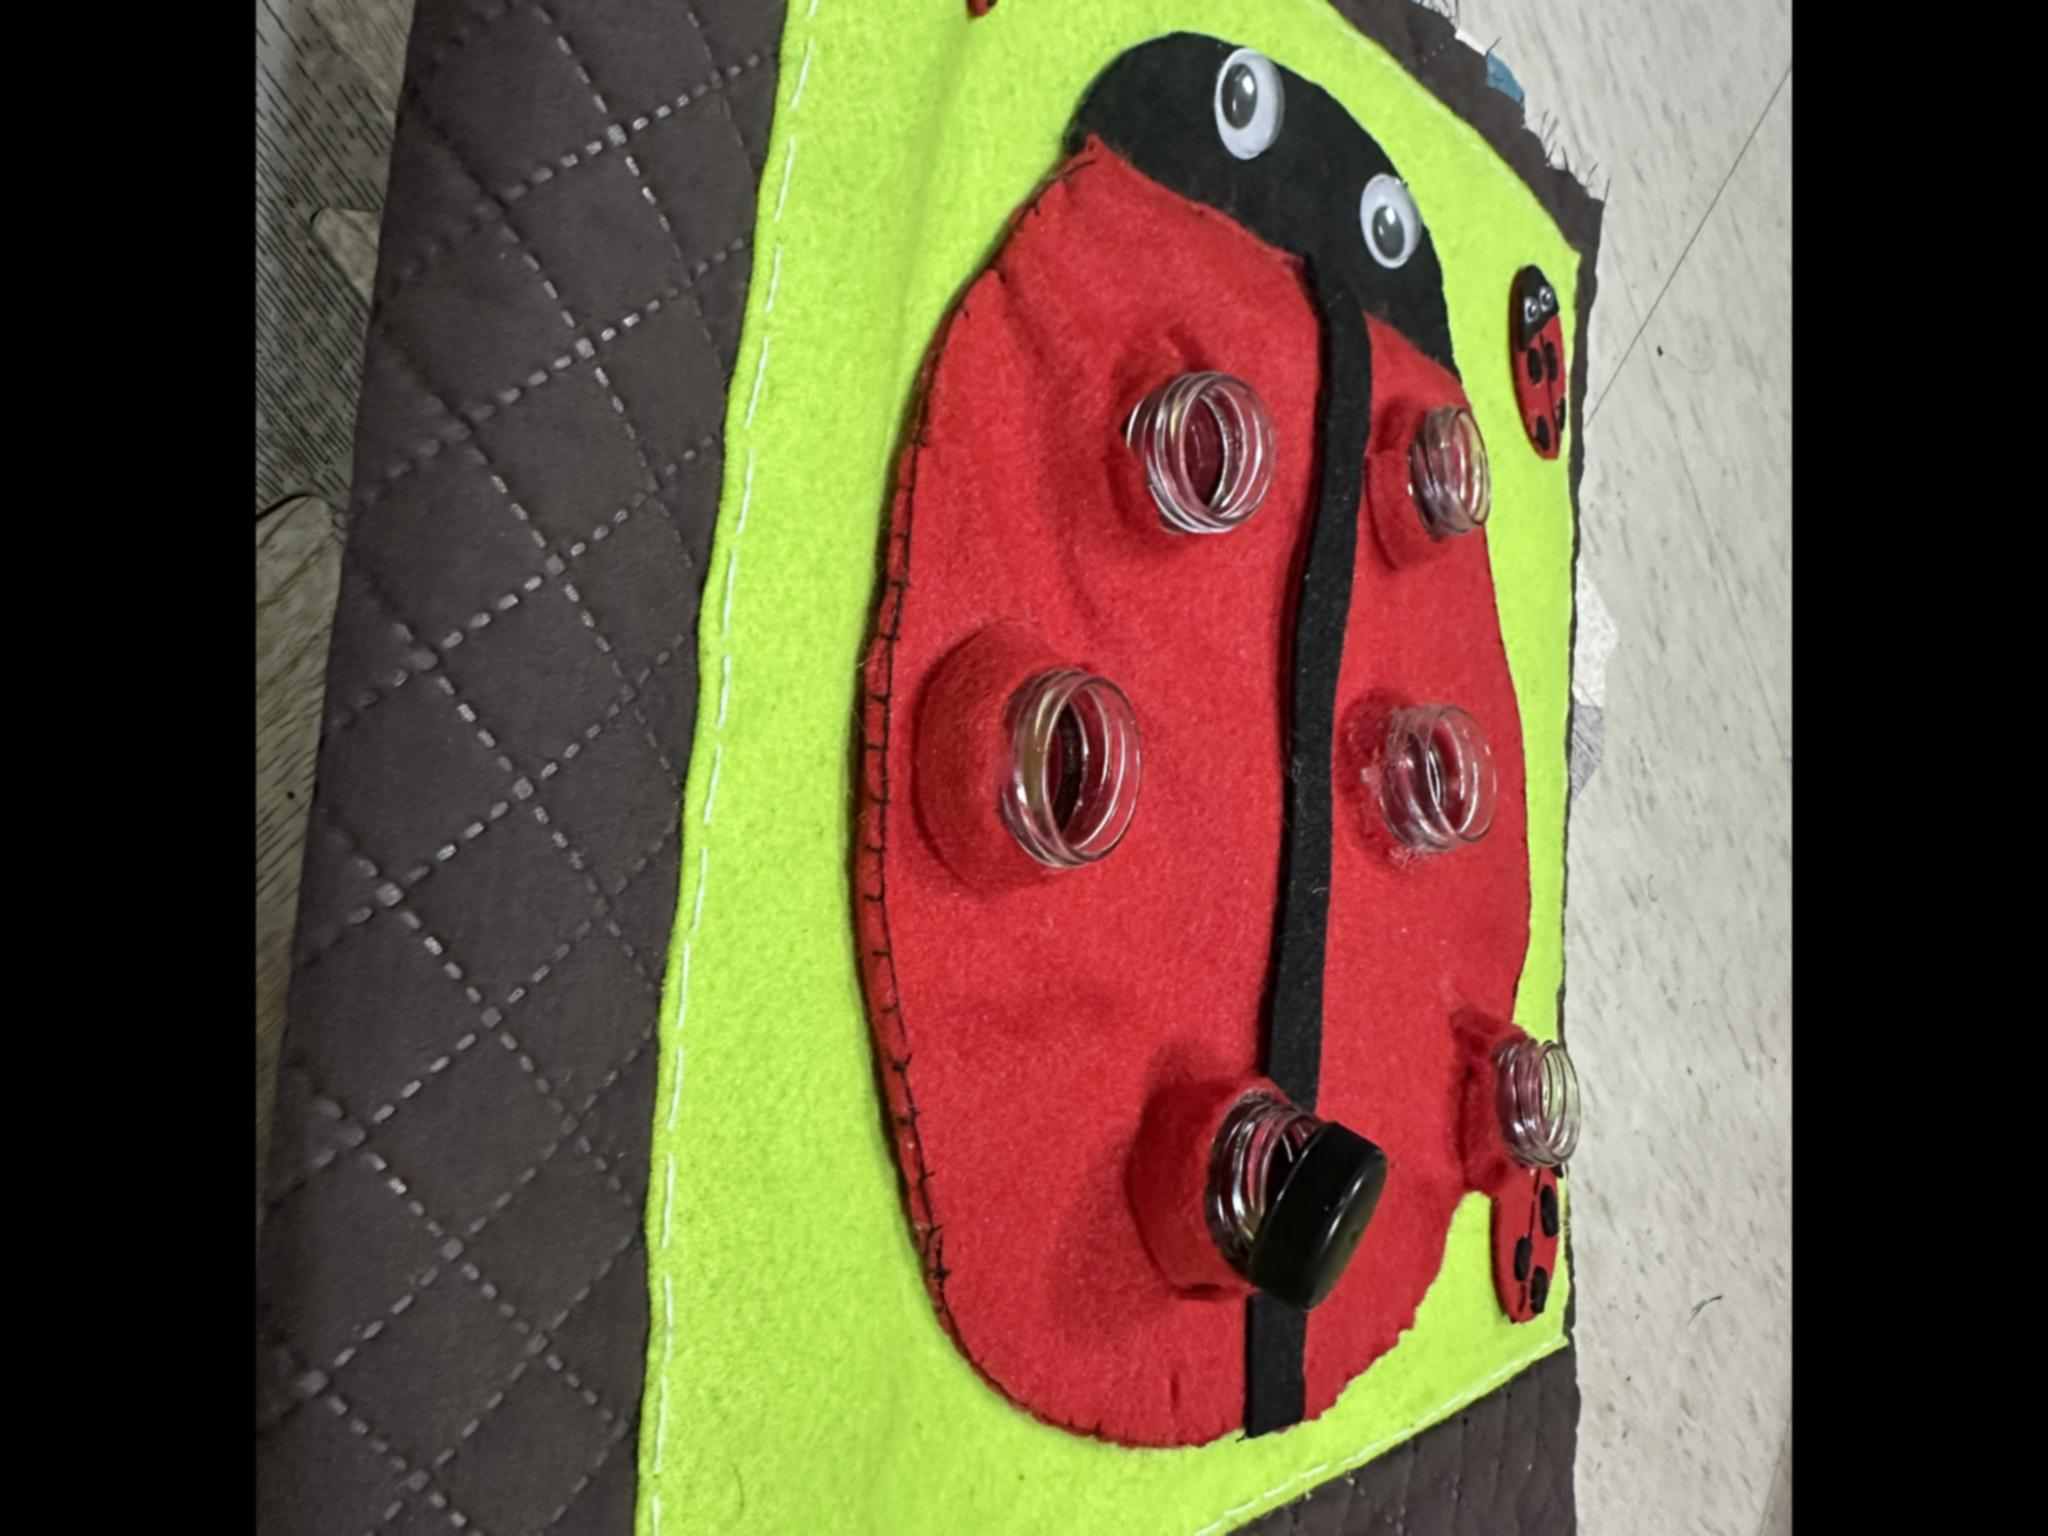cap_ng: (1121, 1050, 1400, 1321)
